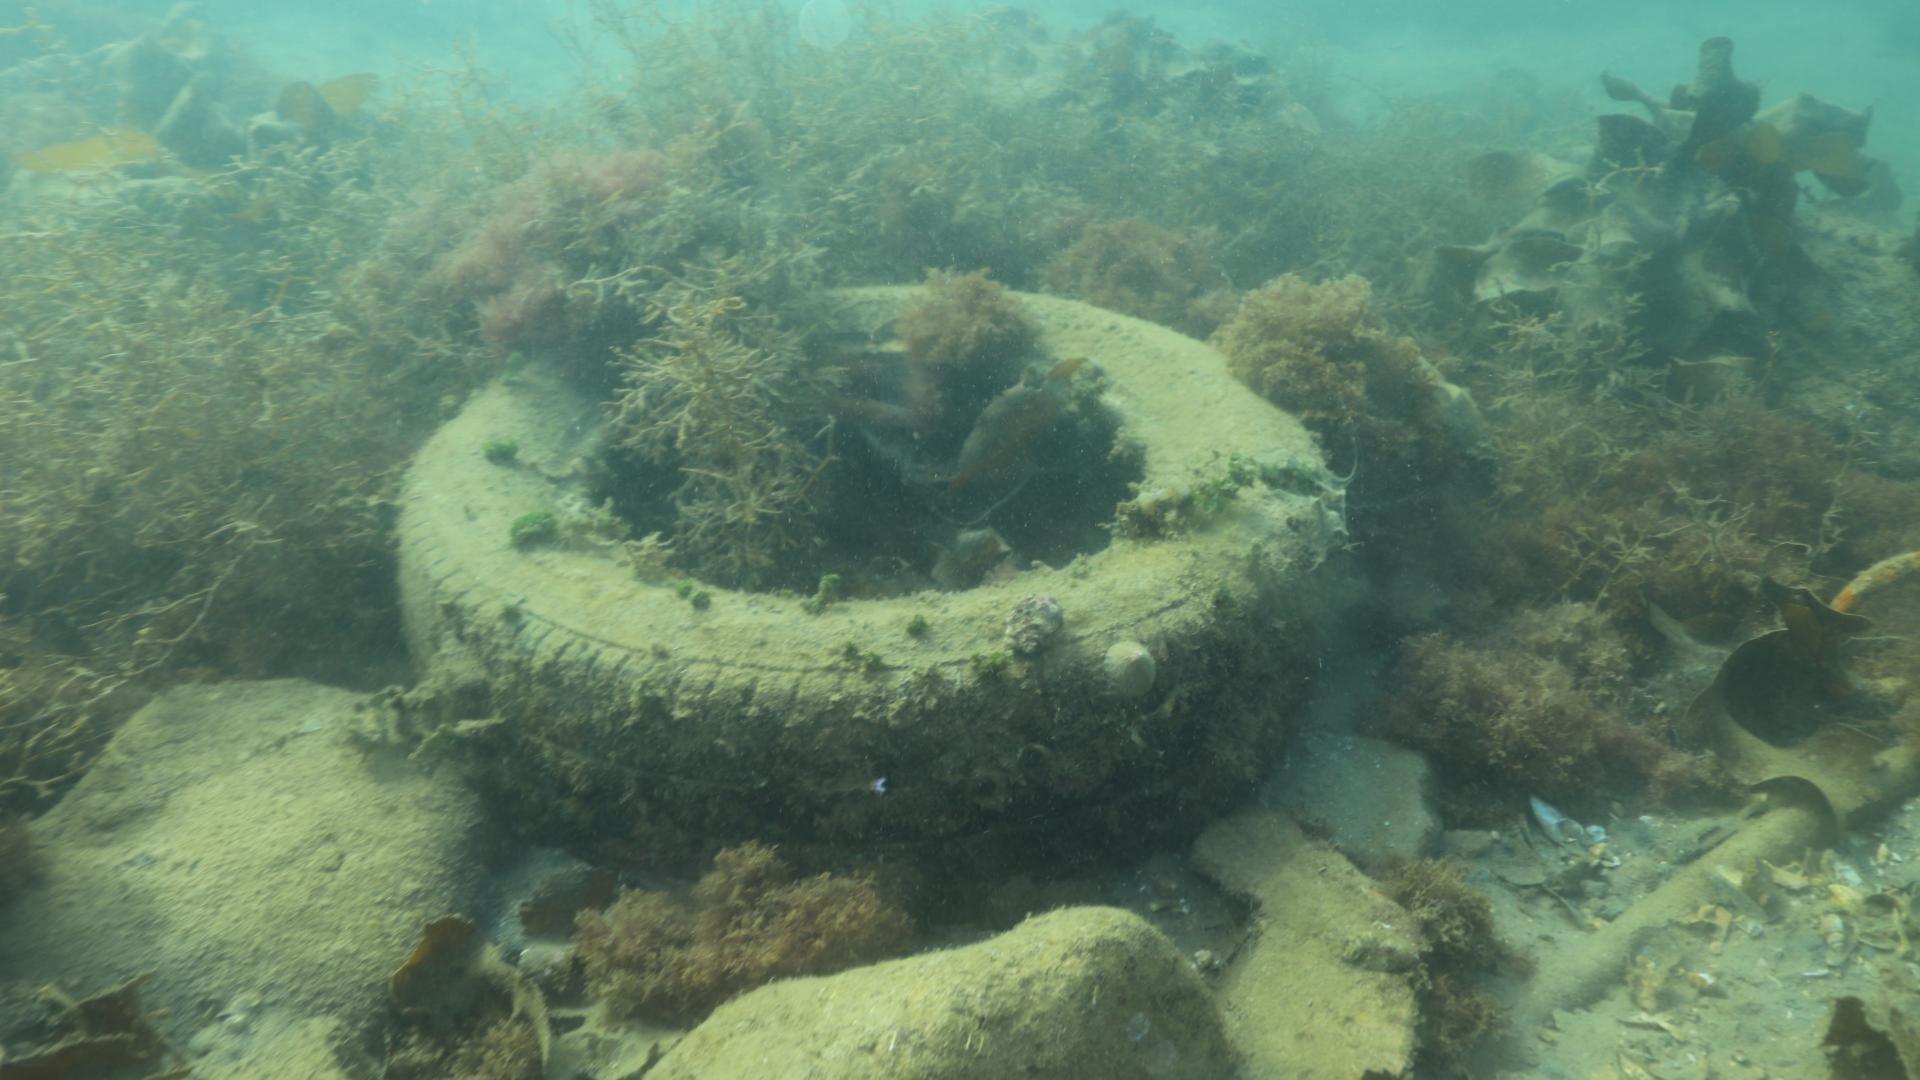tire: (394, 278, 1335, 876)
